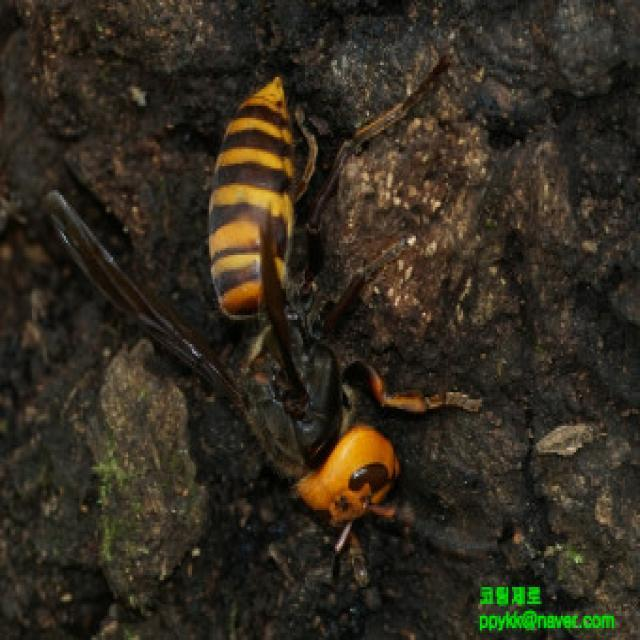Wasp: (35, 59, 493, 544)
